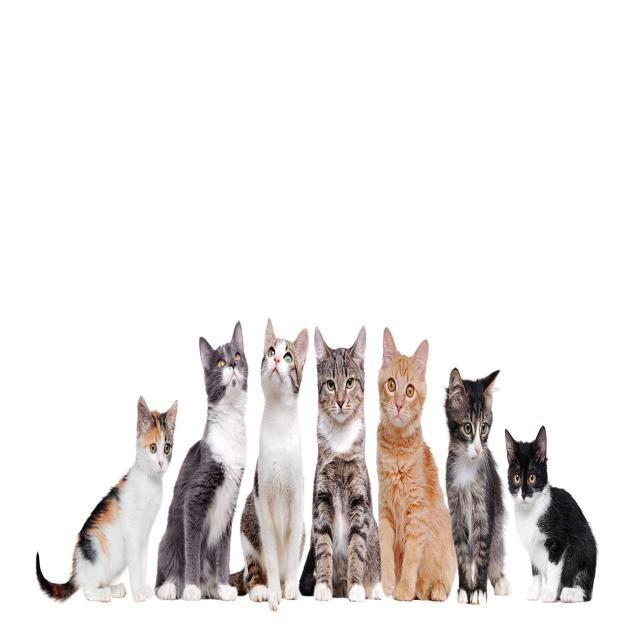Cat: (375, 320, 432, 435), (443, 359, 502, 465), (314, 321, 372, 420), (256, 310, 310, 410), (195, 313, 251, 405), (133, 386, 180, 480), (504, 423, 551, 515)
